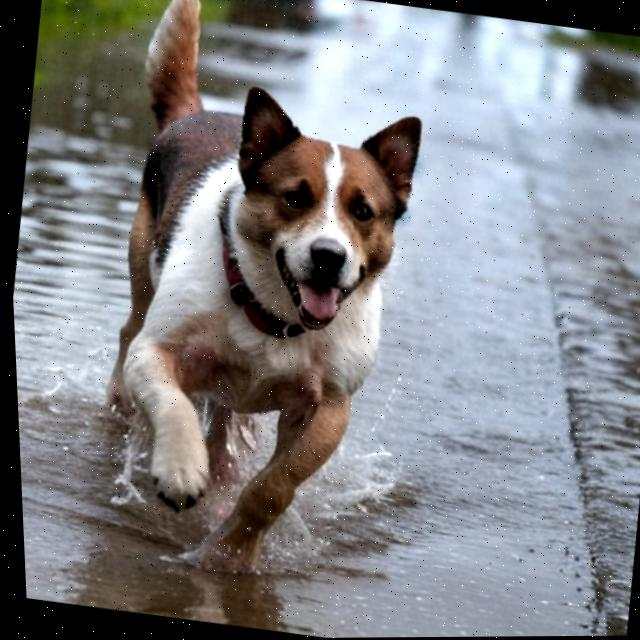dog: (60, 0, 472, 615)
